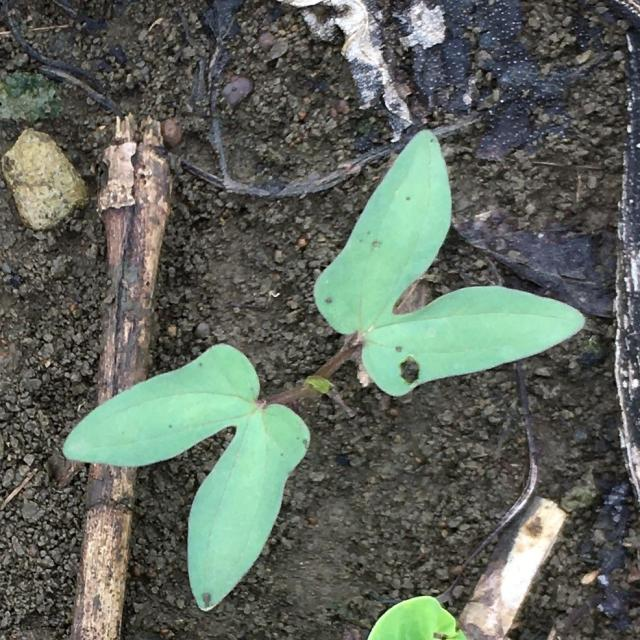MorningGlory: (62, 128, 586, 612)
